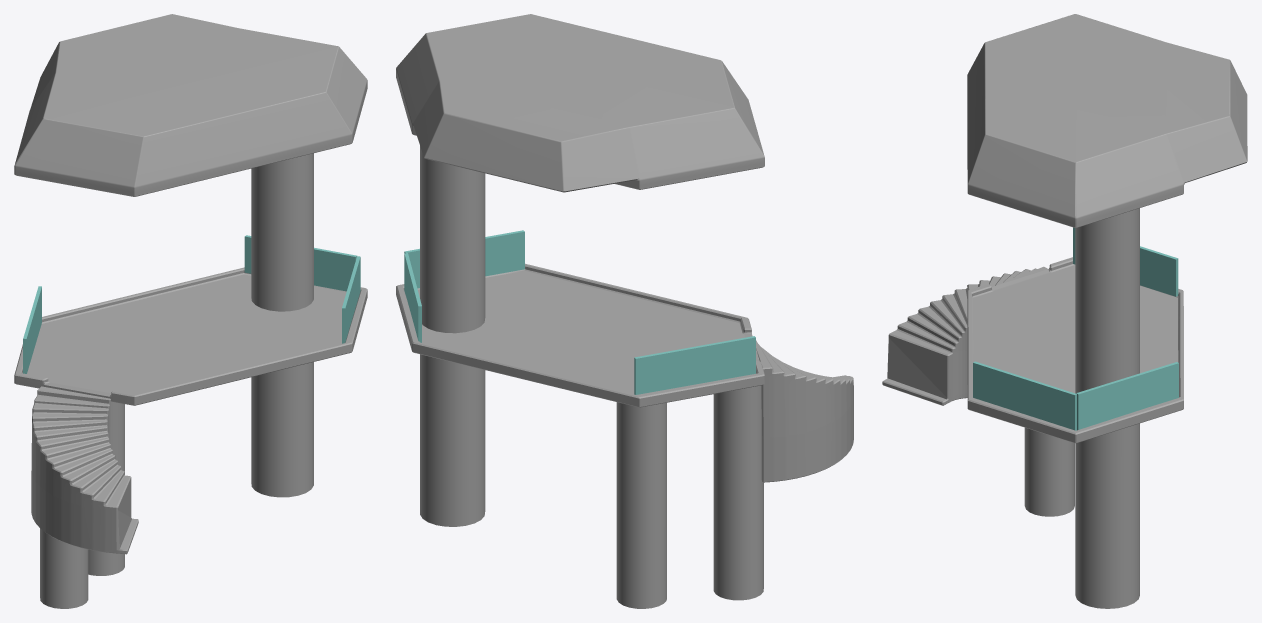
Rendered from cart station 2.fbx.
3 views of the same model, side by side, from view 1: azimuth 30°, elevation 25°; view 2: azimuth 150°, elevation 25°; view 3: azimuth 270°, elevation 25° (orthographic). The views are drawn at different scales.
Parts seen in each view (by area): view 1: cap, platform, column, stairs, column2, pCube179, column1, pCube176, pCube178; view 2: cap, platform, column, column2, column1, stairs, pCube176, pCube178, pCube179; view 3: cap, column, platform, stairs, column2, pCube178, pCube179, pCube176.
Boxes of the visible parts, x1,y1,x2,y2 form: cap: (14, 14, 367, 196); platform: (14, 267, 367, 405); column: (251, 153, 313, 497); stairs: (31, 386, 138, 554); column2: (40, 528, 88, 608); pCube179: (244, 235, 356, 291); column1: (88, 401, 124, 575); pCube176: (23, 286, 41, 373); pCube178: (342, 256, 360, 343); cap: (396, 14, 764, 192); platform: (396, 263, 764, 407); column: (420, 146, 485, 526); column2: (713, 385, 763, 600); column1: (616, 402, 666, 608); stairs: (756, 340, 853, 482); pCube176: (634, 336, 755, 394); pCube178: (404, 230, 524, 288); pCube179: (404, 253, 421, 342); cap: (967, 14, 1247, 227); column: (1075, 208, 1139, 608); platform: (967, 257, 1183, 443); stairs: (882, 266, 1047, 405); column2: (1024, 427, 1074, 516); pCube178: (973, 361, 1076, 430); pCube179: (1076, 362, 1178, 430); pCube176: (1073, 227, 1178, 296).
Bounding box in the file's own units: 48.09 × 58.59 × 39.4.
